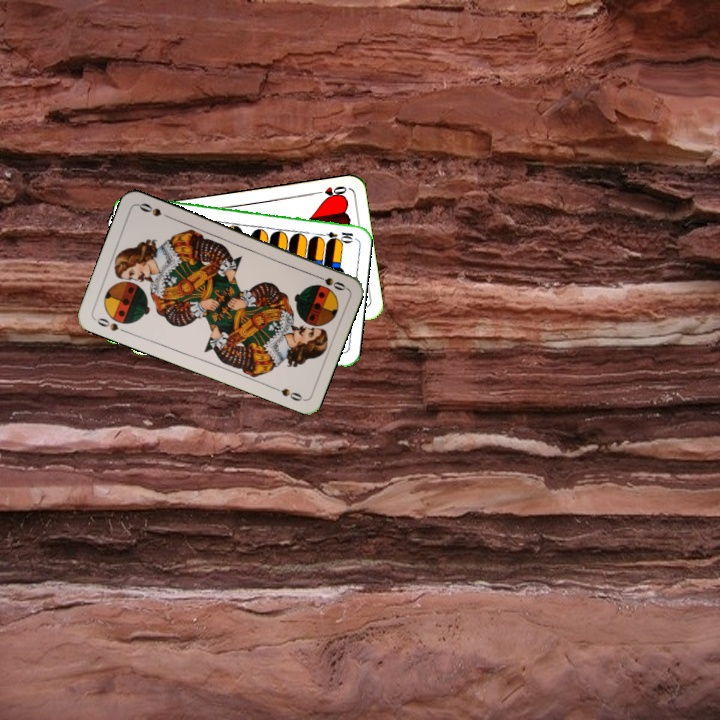E10: (315, 227, 356, 243)
HO: (309, 182, 349, 201)
SO: (310, 270, 348, 293), (93, 314, 129, 336)
